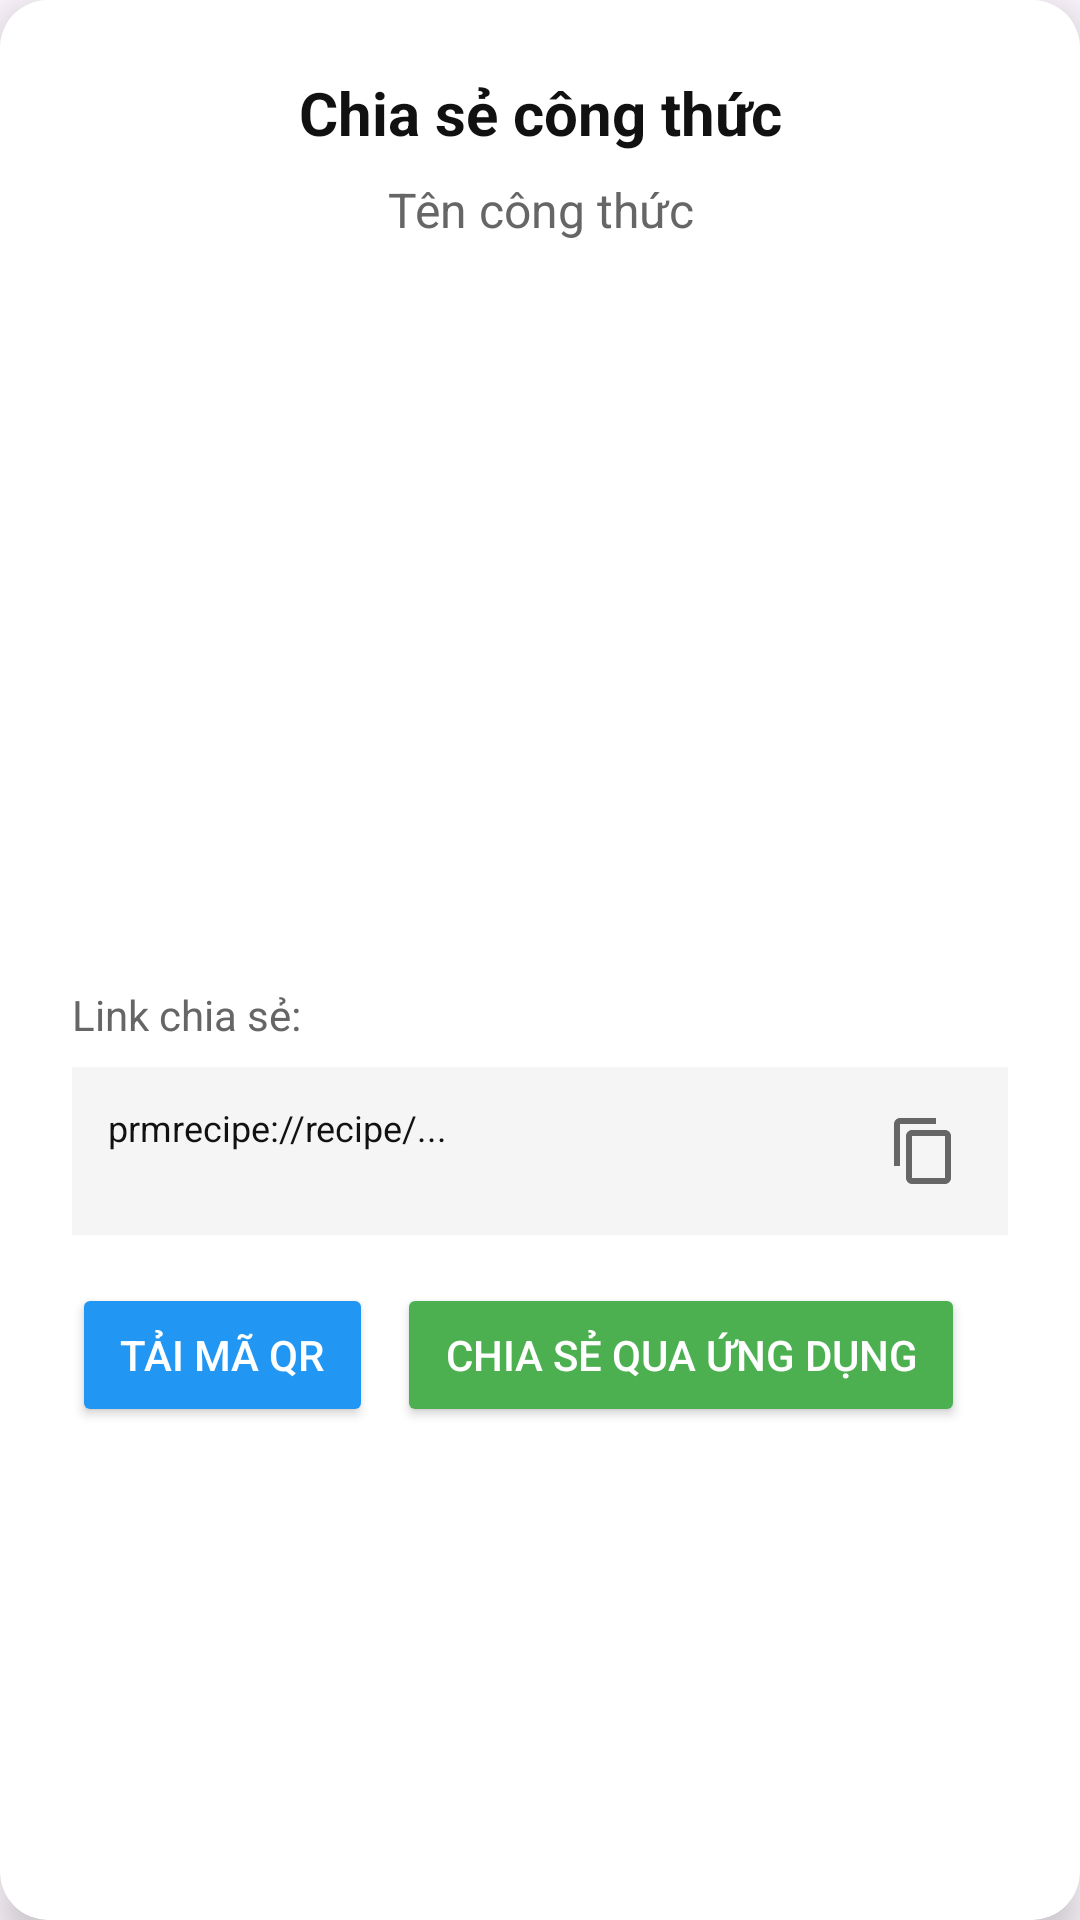

Icon click points for this 1080w x 1920h phone screenshot, format point (x, y):
Copy link: point (922, 1151)
